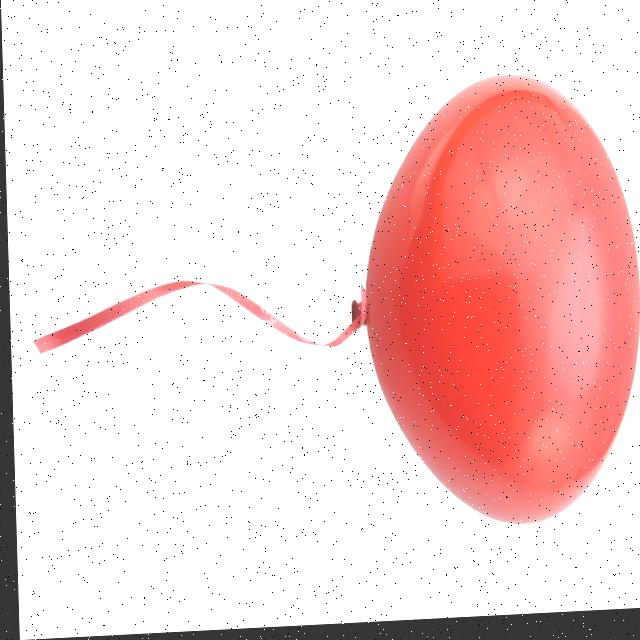balloon: (327, 55, 640, 550)
